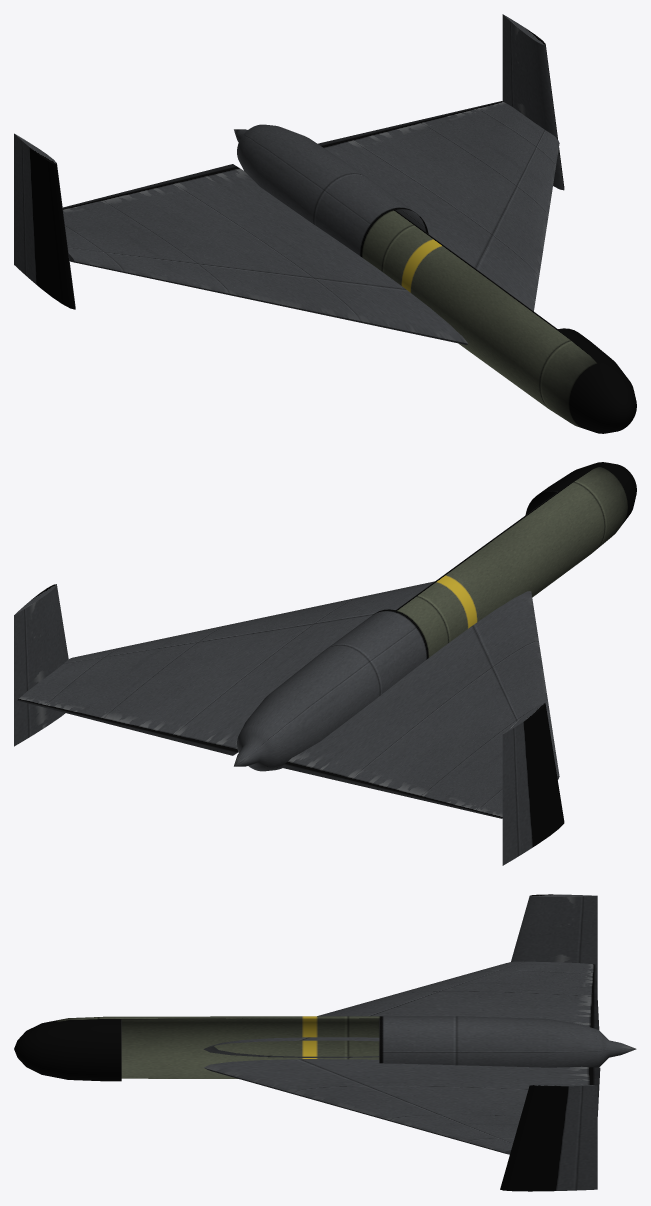
The model's file is drone_body.obj.
The picture shows the model from 3 angles, top to bottom: view 1: azimuth 30°, elevation 25°; view 2: azimuth 150°, elevation 25°; view 3: azimuth 270°, elevation 25°; orthographic projection. The views are drawn at different scales.
Size of the model in its own units: 2.62 by 0.66 by 3.57.
